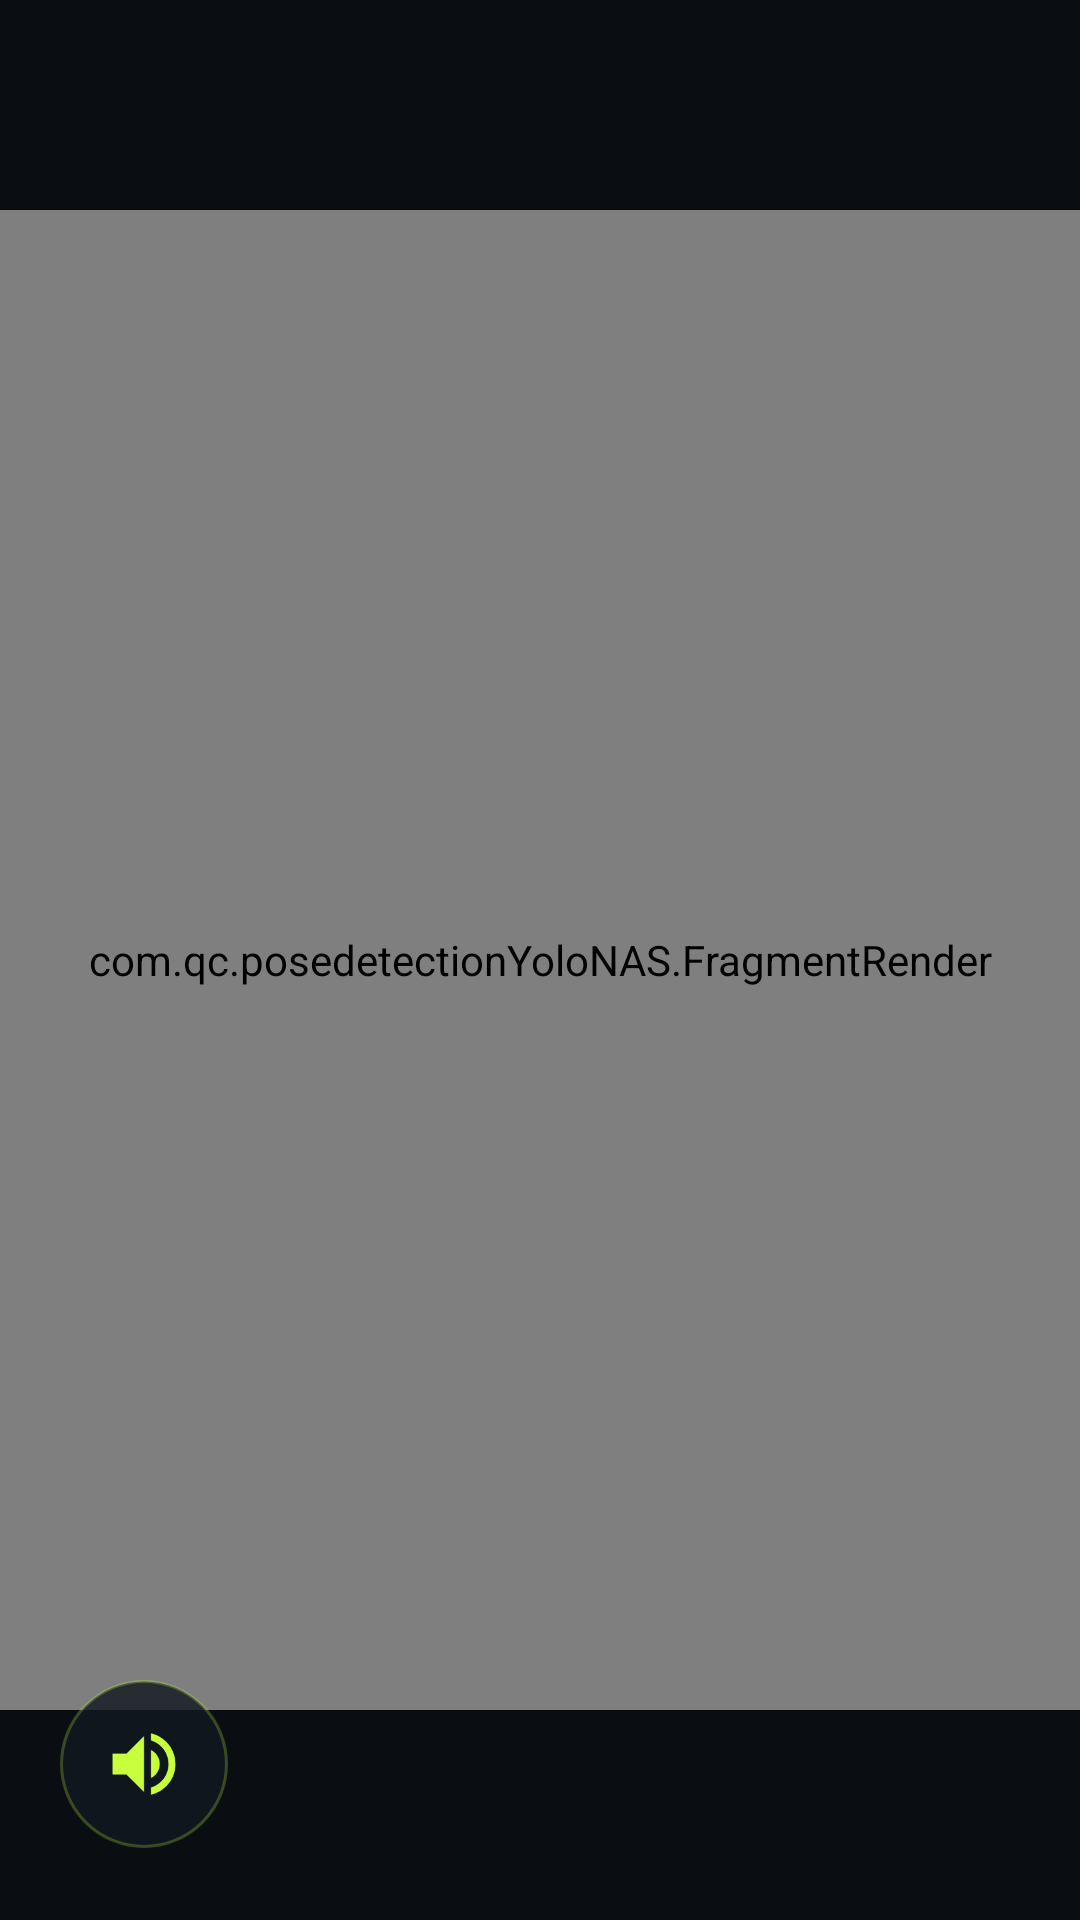

Locate icon controls on the screen. Image size 1080 × 1920, boxes as detection(x1, y1, x2, y2).
Toggle voice coach: detection(60, 1680, 228, 1848)
